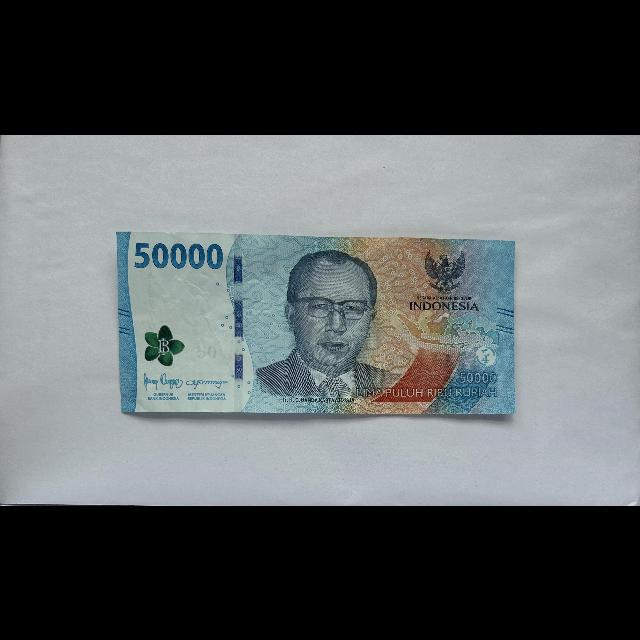Asli-50k: (114, 228, 518, 416)
Tinta-Asli-50k: (145, 323, 186, 367)
